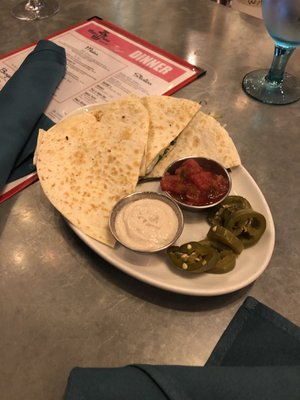soup: (144, 114, 239, 209)
sushi: (109, 191, 185, 254), (160, 157, 232, 212)
